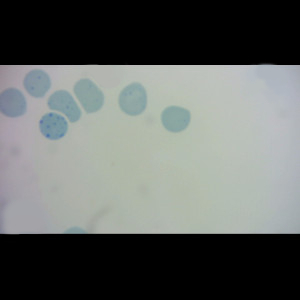aggregate reticulocyte: (38, 111, 69, 141)
erythrocyte: (159, 105, 192, 134), (1, 85, 29, 119)
punctate reticulocyte: (72, 77, 107, 115), (47, 89, 83, 124), (117, 81, 149, 117), (23, 68, 52, 98)
